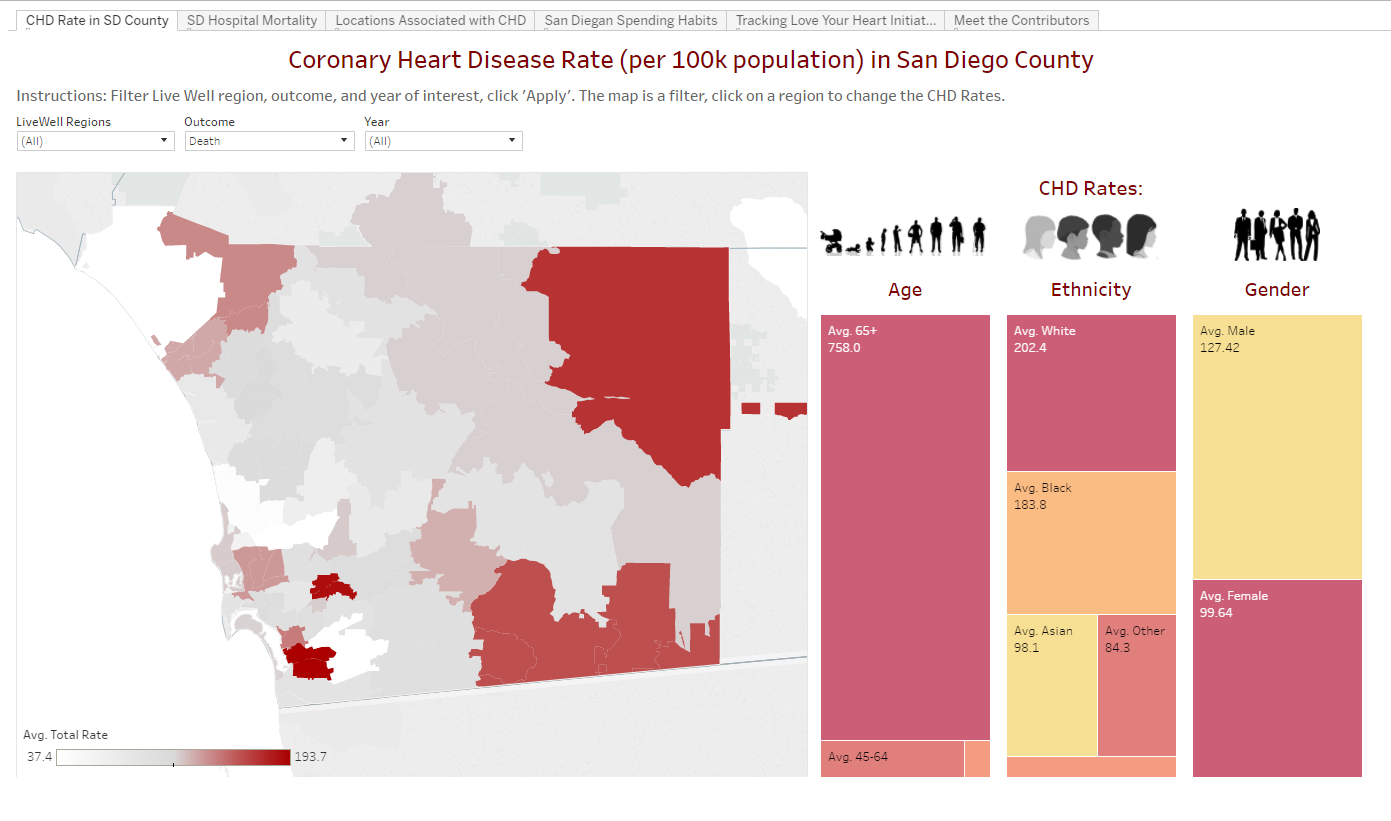

The dashboard page shown, as its layout file describes it:
{"tool":"tableau","page":{"name":"CHD Rate in SD County","canvas":[1366,768],"ordinal":0},"visuals":[{"type":"text","box":[0,0,1362,49]},{"type":"text","box":[0,49,1362,33]},{"type":"filter","title":"SD_LW_TotalRate_Map","param":"[federated.0gy949i0m81nc418osz6s0xpvq1k].[none:LiveWell_Regions:nk]","box":[0,82,172,59]},{"type":"filter","title":"SD_LW_TotalRate_Map","param":"[federated.0gy949i0m81nc418osz6s0xpvq1k].[none:OUTCOME:nk]","box":[172,82,180,59]},{"type":"filter","title":"SD_LW_TotalRate_Map","param":"[federated.0gy949i0m81nc418osz6s0xpvq1k].[none:YEAR:ok]","box":[352,82,168,59]},{"type":"worksheet","title":"SD_LW_TotalRate_Map","mark":"Multipolygon","box":[0,141,804,623]},{"type":"text","box":[804,141,558,43]},{"type":"image","param":"Image/images.png","box":[804,184,186,61]},{"type":"image","param":"Image/Capture.PNG","box":[990,184,186,61]},{"type":"image","param":"Image/77455d6e4d0734c1b241ebb3ddc8d241_big-image-png-business-people-clipart-sil","box":[1176,184,186,61]},{"type":"worksheet","title":"SD_LW_Age_Pies","mark":"Automatic","box":[804,245,186,519]},{"type":"worksheet","title":"SD_LW_Ethnicity_Pie","mark":"Automatic","box":[990,245,186,519]},{"type":"worksheet","title":"SD_LW_Gender_Pie","mark":"Automatic","box":[1176,245,186,519]},{"type":"legend","title":"SD_LW_TotalRate_Map","param":"[federated.0gy949i0m81nc418osz6s0xpvq1k].[avg:Total_Rate:qk]","box":[15.2,694.9,308.9,65.1]}]}

Visuals, with their boxes on the page's 1366x768 design canvas (x1, y1, x2, y2). These are canvas units, not pixel positions in the 1391x821 screenshot, which may show the page scaled, cropped or inside an application window:
text: 0:0:1362:49
text: 0:49:1362:82
"SD_LW_TotalRate_Map" filter: 0:82:172:141
"SD_LW_TotalRate_Map" filter: 172:82:352:141
"SD_LW_TotalRate_Map" filter: 352:82:520:141
"SD_LW_TotalRate_Map" worksheet (Multipolygon marks): 0:141:804:764
text: 804:141:1362:184
image: 804:184:990:245
image: 990:184:1176:245
image: 1176:184:1362:245
"SD_LW_Age_Pies" worksheet: 804:245:990:764
"SD_LW_Ethnicity_Pie" worksheet: 990:245:1176:764
"SD_LW_Gender_Pie" worksheet: 1176:245:1362:764
"SD_LW_TotalRate_Map" legend: 15:695:324:760
